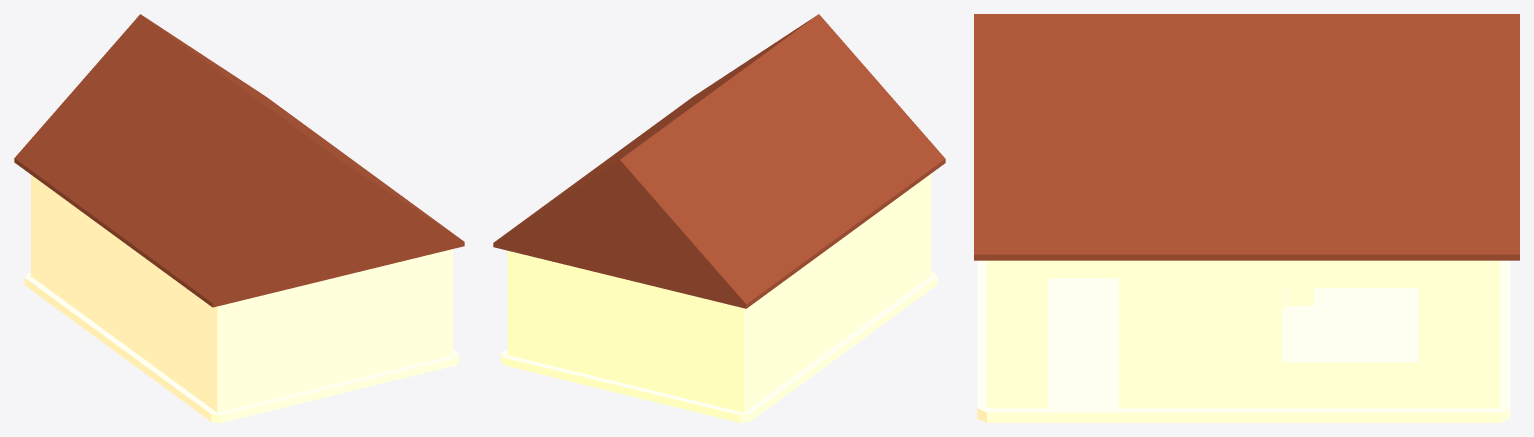
File: House1.fbx
3 renders of one model, left to right at view 1: azimuth 30°, elevation 25°; view 2: azimuth 150°, elevation 25°; view 3: azimuth 270°, elevation 25°, orthographic. The views are drawn at different scales.
Parts seen in each view (by area): view 1: Cube.001, Cube; view 2: Cube.001, Cube; view 3: Cube.001, Cube.
Part boxes in pixels (x1,y1,x2,y2): Cube.001: (14,14,464,307); Cube: (24,175,458,422); Cube.001: (493,14,945,308); Cube: (501,174,937,422); Cube.001: (974,14,1519,260); Cube: (977,260,1510,422).
Size of the model in its own units: 1024 by 918 by 1397.
